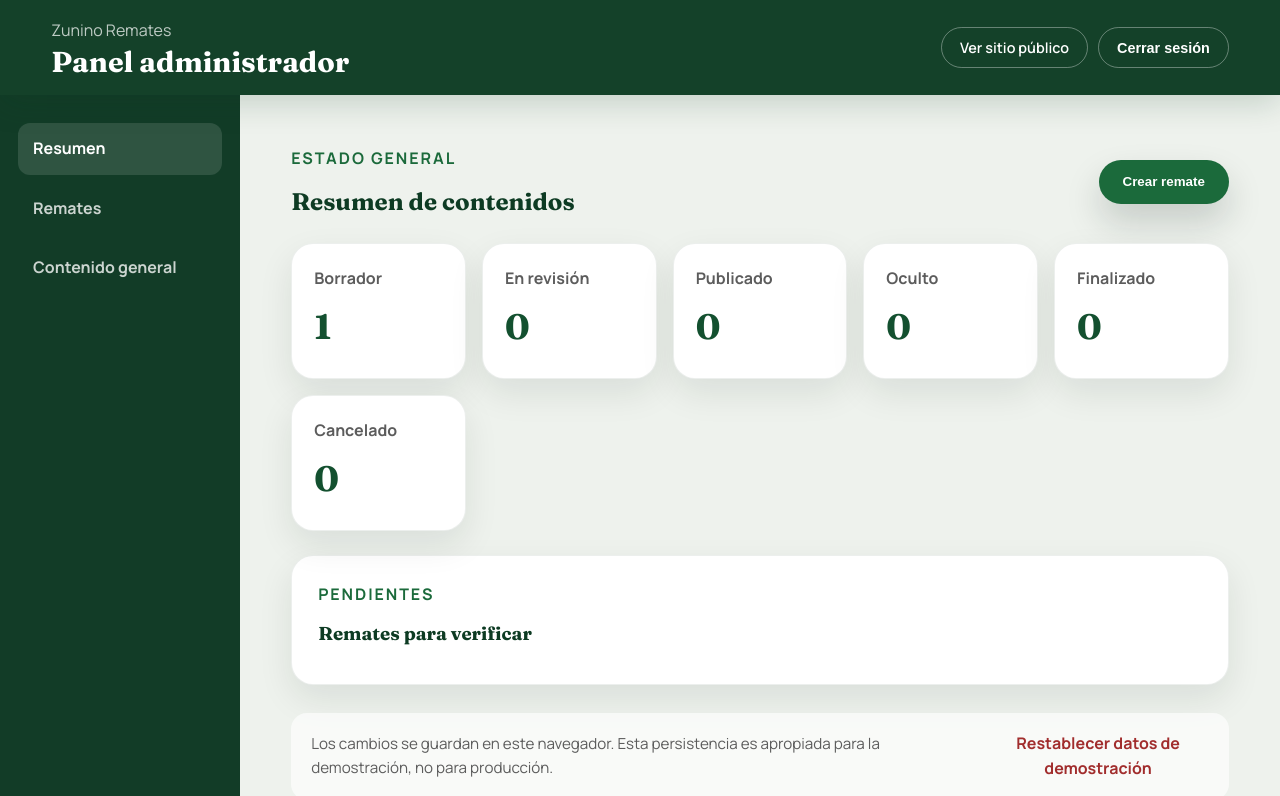
Test: panel administrador › permite publicar directamente un borrador completo
Click the button "Remates" at (120, 209), box [18, 183, 222, 234]
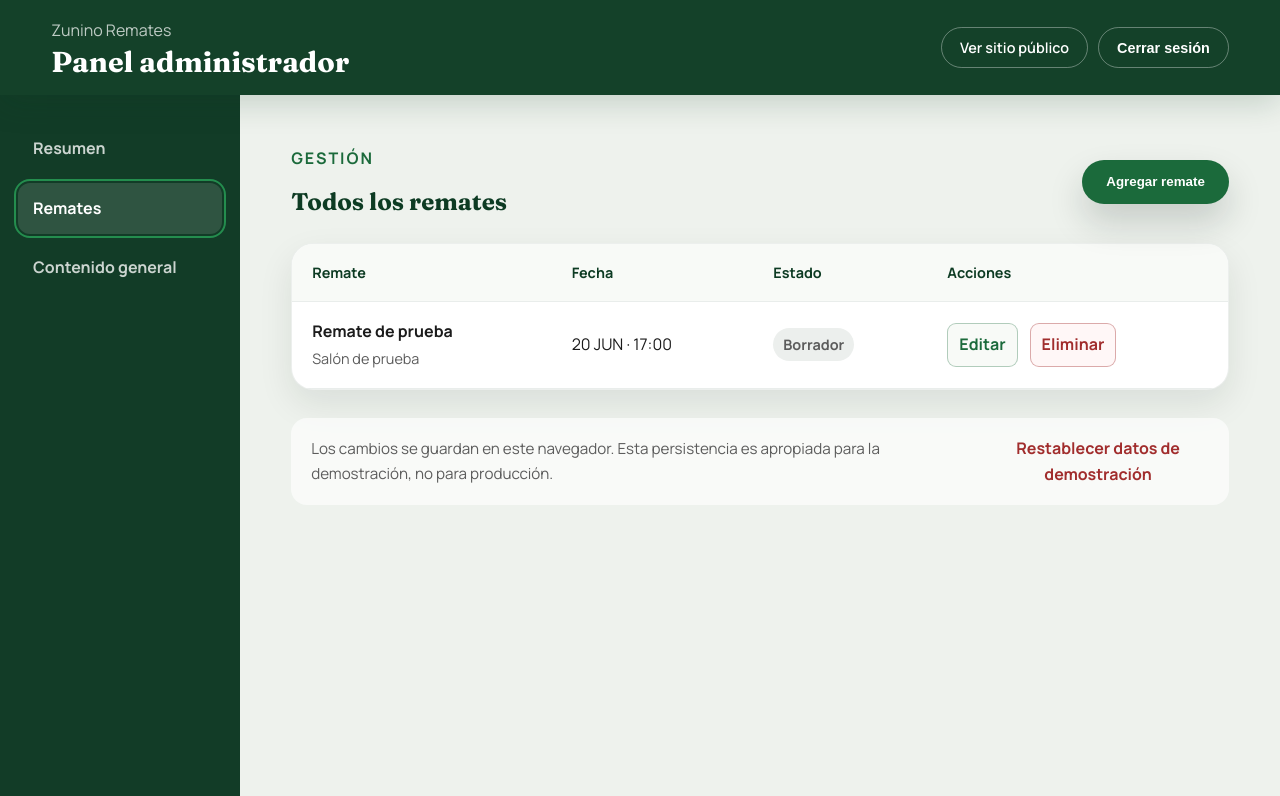
Click the button "Editar" at (982, 345), box [947, 323, 1018, 367]
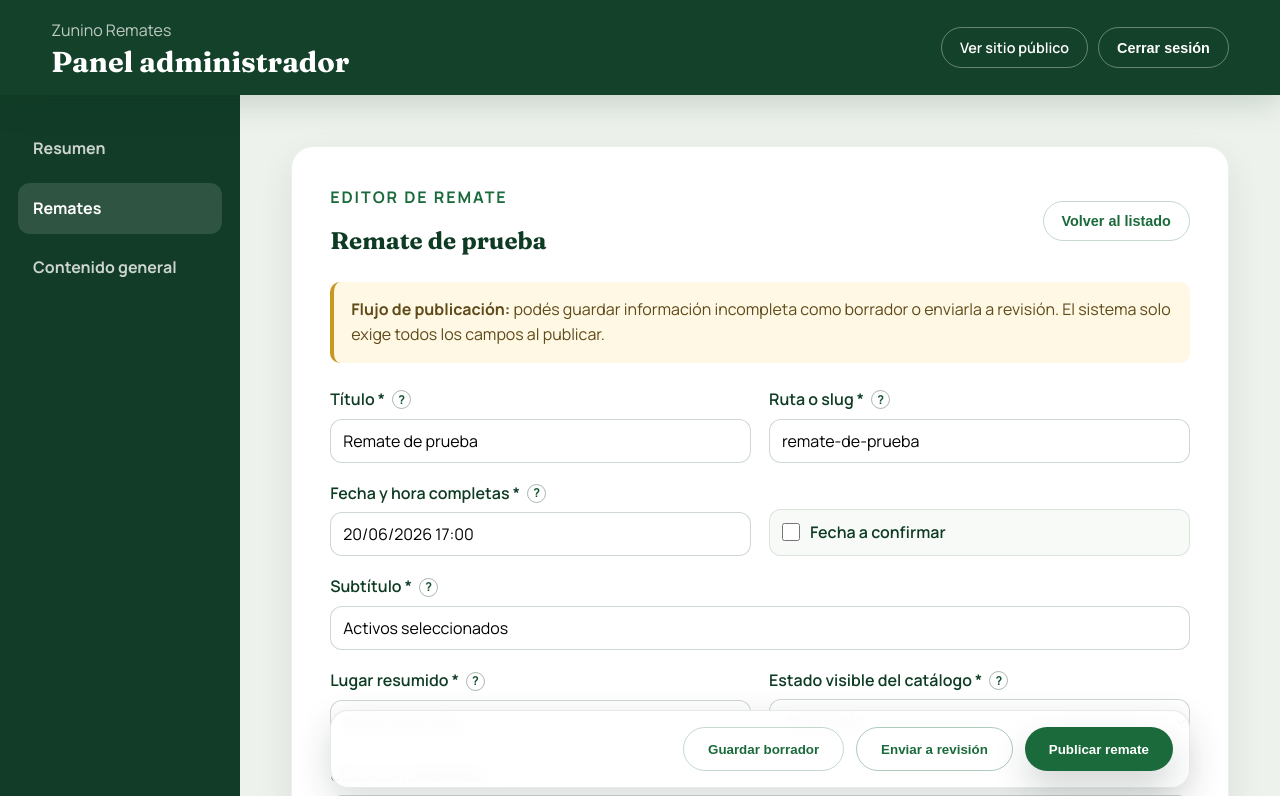
Click the button "Publicar remate" at (1099, 749), box [1025, 727, 1173, 771]
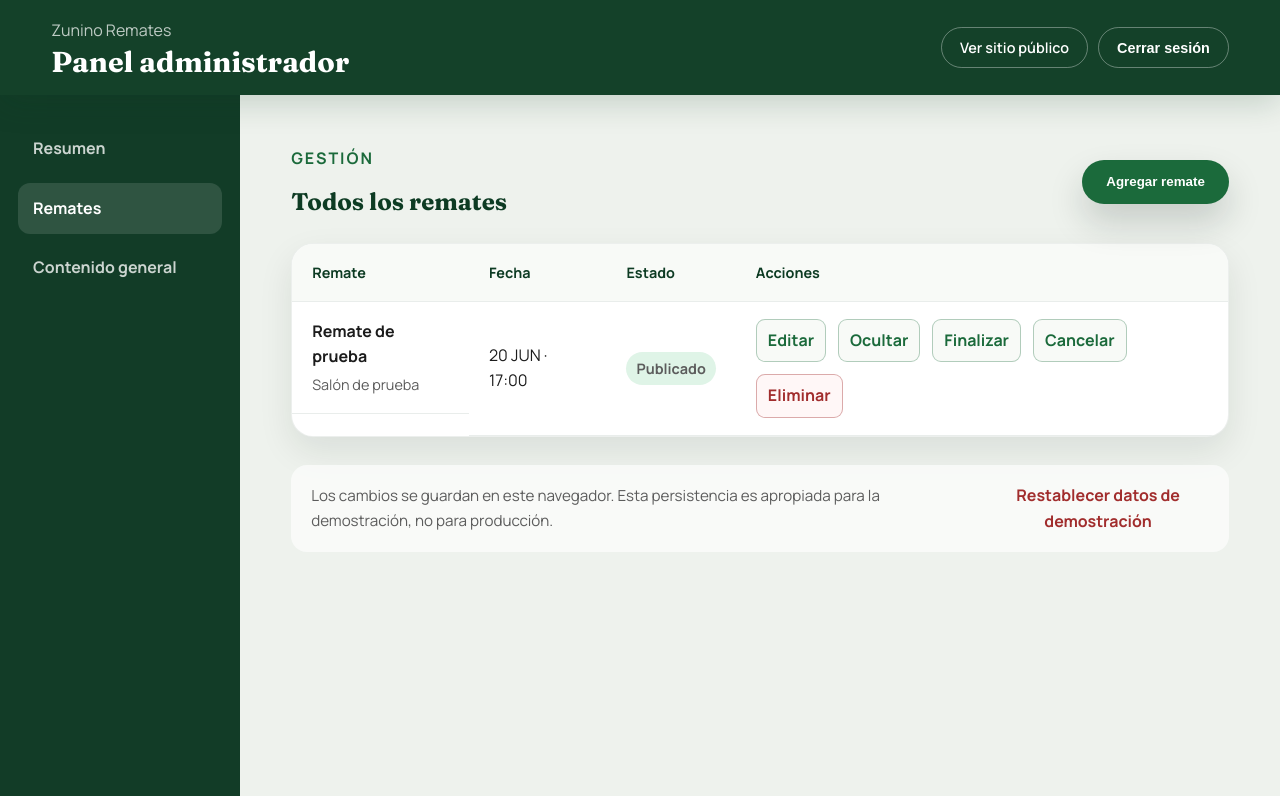
Check: the text "Publicado" is shown, box [636, 359, 706, 378]
